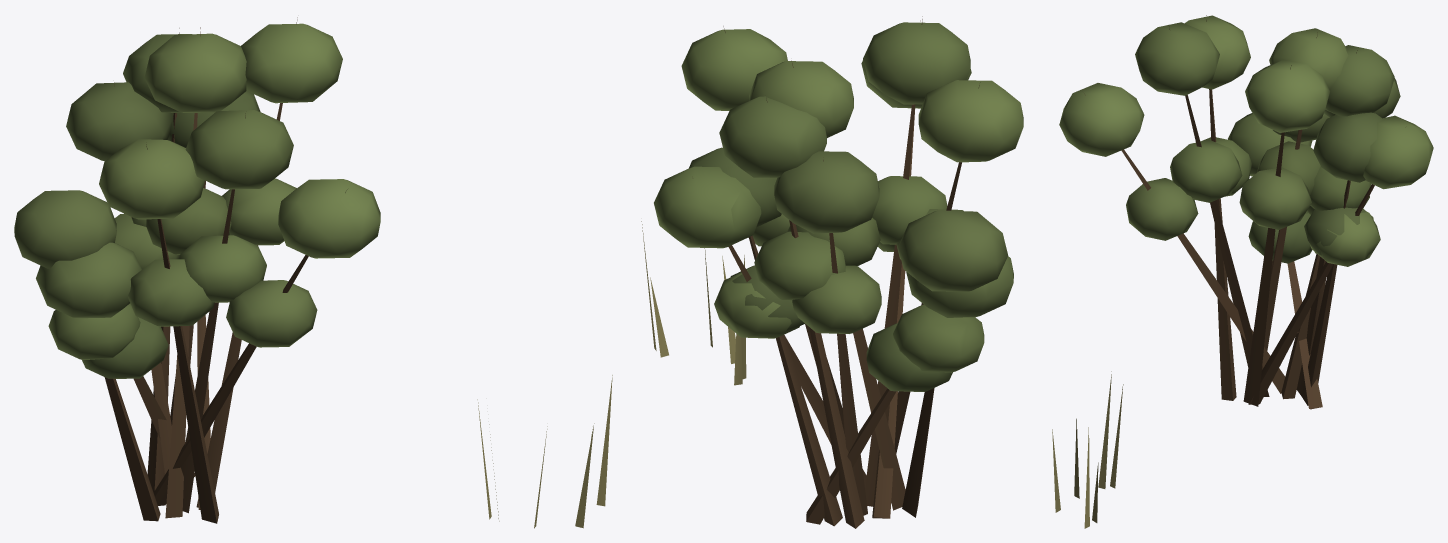
The model's file is desert_scrub_b_lod1.glb.
The picture shows the model from 3 angles, left to right: view 1: azimuth 30°, elevation 25°; view 2: azimuth 150°, elevation 25°; view 3: azimuth 270°, elevation 25°; orthographic projection. The views are drawn at different scales.
Parts seen in each view (by area): view 1: Surface.001; view 2: Surface.001; view 3: Surface.001.
Part boxes in pixels (x1,y1,x2,y2): Surface.001: (14,17,612,528); Surface.001: (641,16,1023,528); Surface.001: (1052,15,1433,528).
Bounding box in the file's own units: 2.63 × 2.42 × 2.13.
